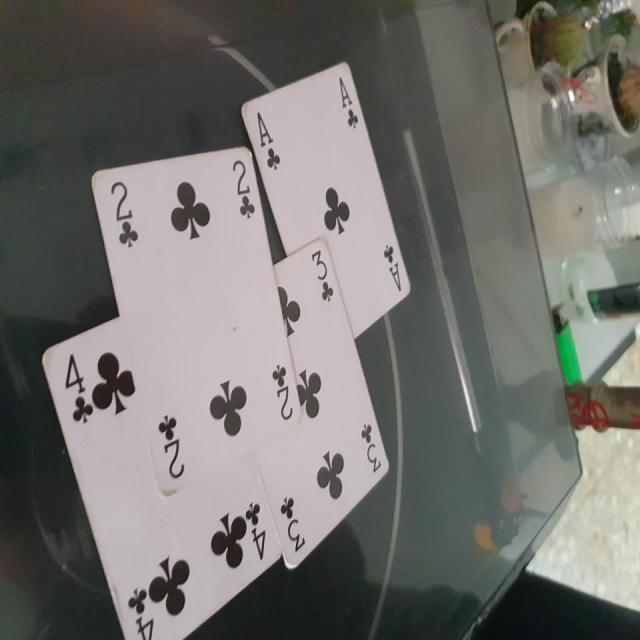2 Trefoils: (90, 143, 304, 498)
3 Trefoils: (251, 238, 391, 572)
4 Trefoils: (41, 316, 282, 640)
A Trefoils: (238, 59, 411, 340)
